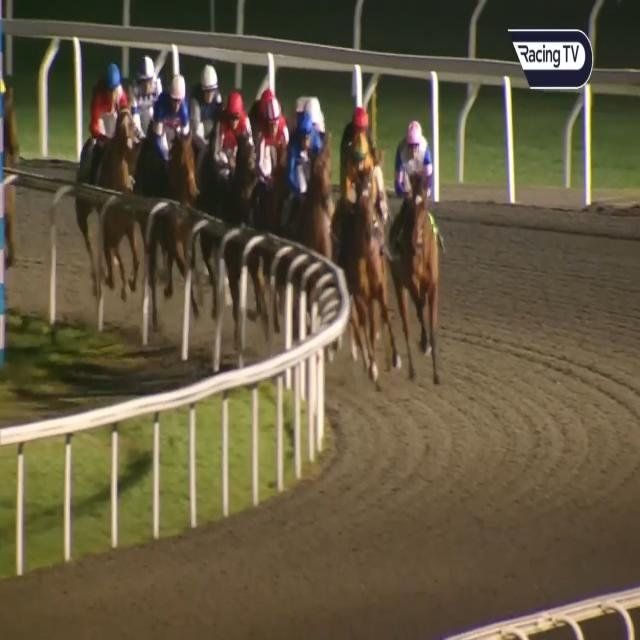horses-racing: (337, 131, 384, 350), (81, 65, 132, 237), (395, 116, 429, 350), (148, 76, 193, 228), (210, 93, 254, 243), (244, 96, 293, 230), (286, 113, 328, 266), (186, 62, 224, 156), (128, 56, 162, 149), (350, 94, 381, 144), (301, 89, 331, 137), (248, 84, 280, 121)
